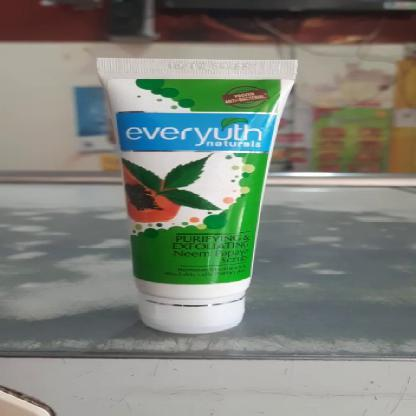EY_SCR_PURIFYING_EXFOLTNG_NEEM_PAPAYA_50G: (97, 57, 291, 334)
